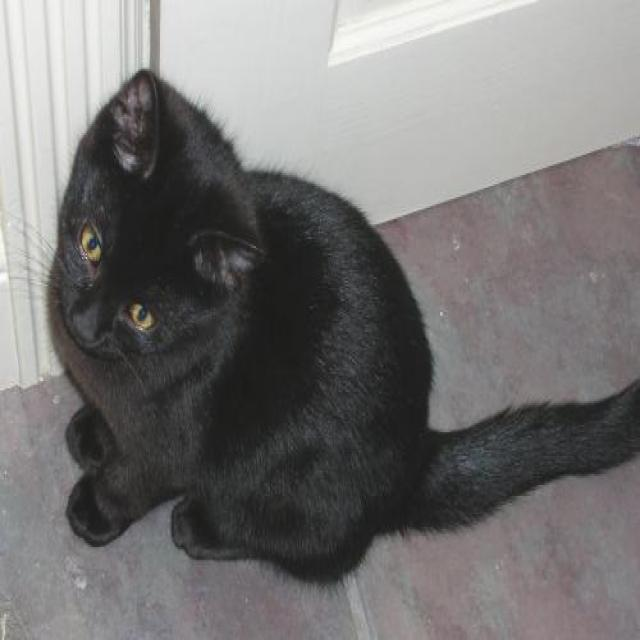Cats: (6, 66, 639, 587)
